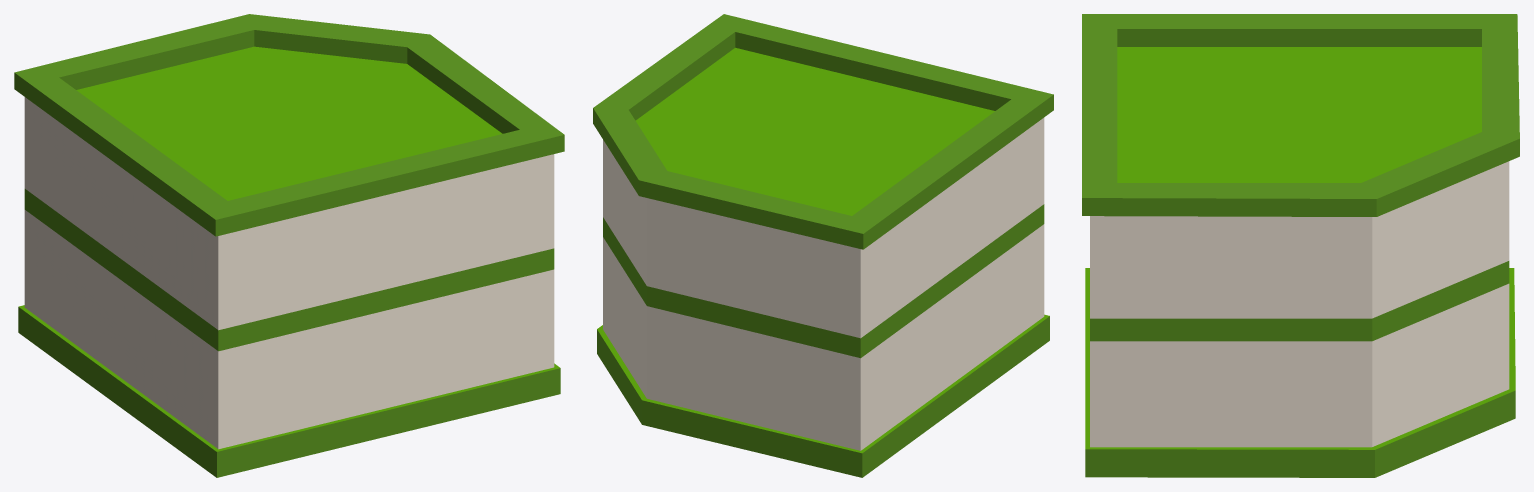
Rendered from Map-Shop-Lv2-G.fbx.
3 views of the same model, side by side, from view 1: azimuth 30°, elevation 25°; view 2: azimuth 150°, elevation 25°; view 3: azimuth 270°, elevation 25° (orthographic). The views are drawn at different scales.
Parts seen in each view (by area): view 1: Map-Shop-Lv2-G; view 2: Map-Shop-Lv2-G; view 3: Map-Shop-Lv2-G.
Boxes of the visible parts, x1,y1,x2,y2 form: Map-Shop-Lv2-G: (14, 14, 564, 477); Map-Shop-Lv2-G: (593, 14, 1053, 477); Map-Shop-Lv2-G: (1082, 14, 1519, 477).
Size of the model in its own units: 1.75 by 1.24 by 1.75.
